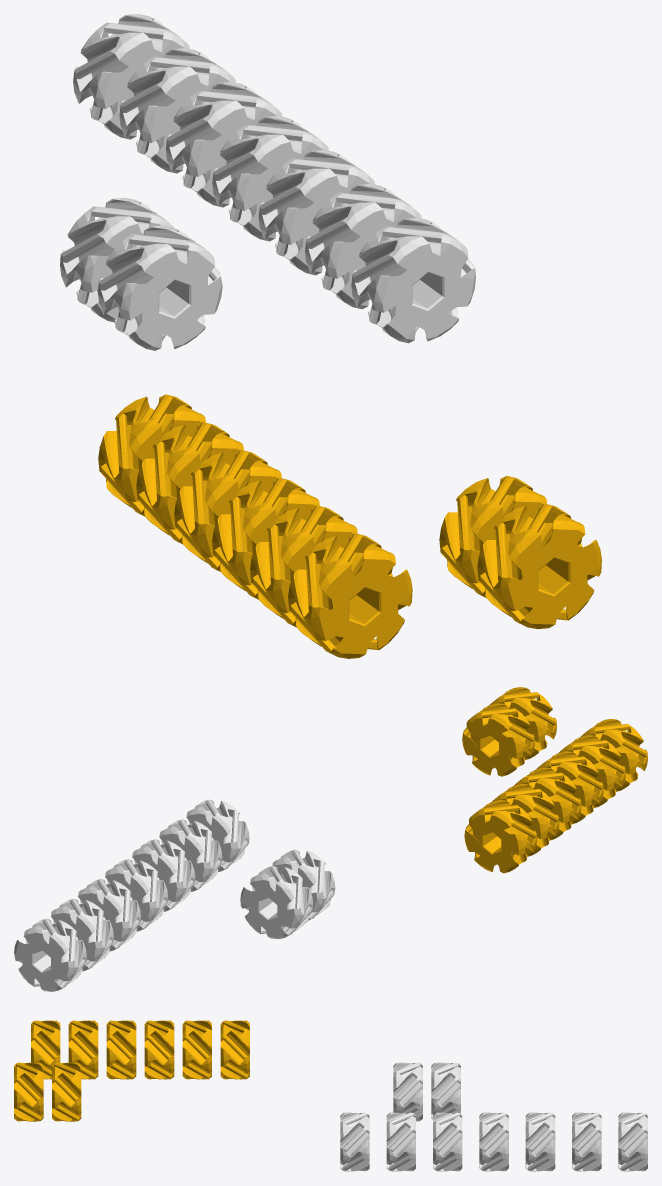
File: 341-hubs.glb
The picture shows the model from 3 angles, top to bottom: view 1: azimuth 30°, elevation 25°; view 2: azimuth 150°, elevation 25°; view 3: azimuth 270°, elevation 25°; orthographic projection. The views are drawn at different scales.
Visible parts, largest first — view 1: Left Hub, Right Hub; view 2: Left Hub, Right Hub; view 3: Left Hub, Right Hub.
Part boxes in pixels (left/top/right/bottom): Left Hub: left=60, top=14, right=475, bottom=350; Right Hub: left=98, top=394, right=601, bottom=658; Left Hub: left=14, top=799, right=335, bottom=991; Right Hub: left=462, top=687, right=647, bottom=873; Left Hub: left=340, top=1062, right=647, bottom=1171; Right Hub: left=14, top=1020, right=249, bottom=1121.
Size of the model in its own units: 0.2064 by 0.0452 by 0.4775.
